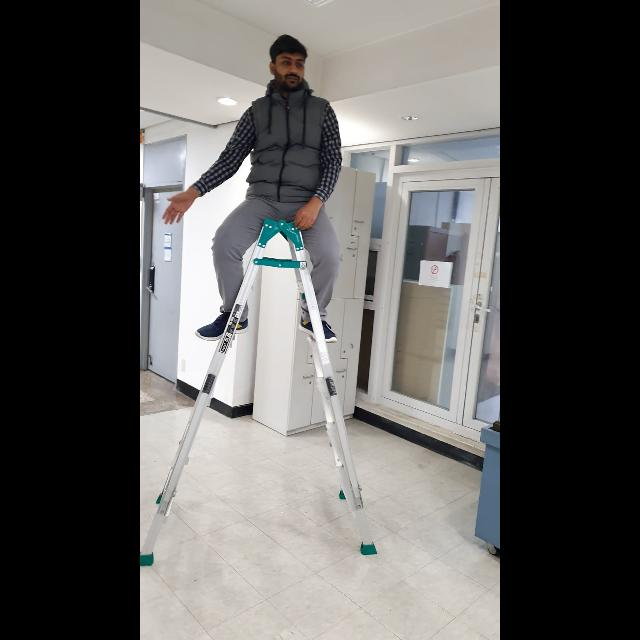hard hat: (141, 214, 381, 566)
vest: (160, 30, 348, 348)
